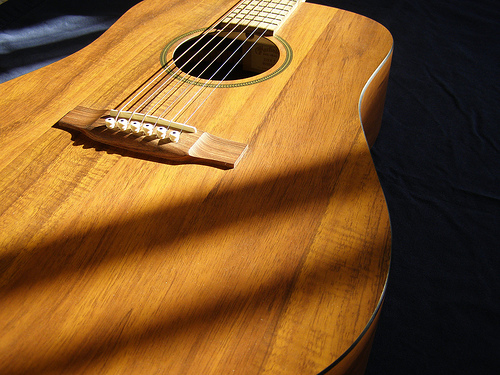guitar: (1, 1, 397, 375)
